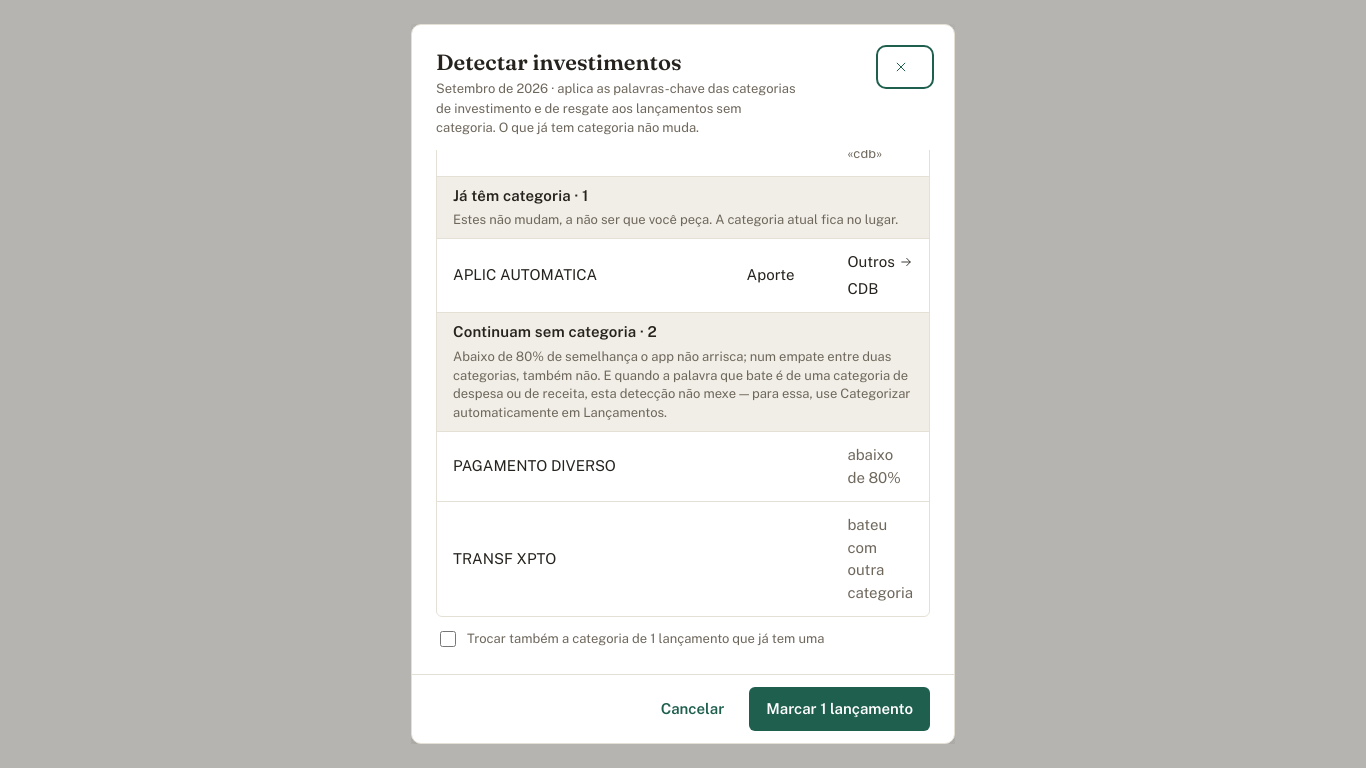
Test: DetectInvestmentsDialog › a troca exige um segundo sim, que diz em português que não há desfazer
(page scrolled)
Click the checkbox labelled "Trocar também a categoria de 1 lançamento que já tem uma": (448, 639) [440,631,456,647]
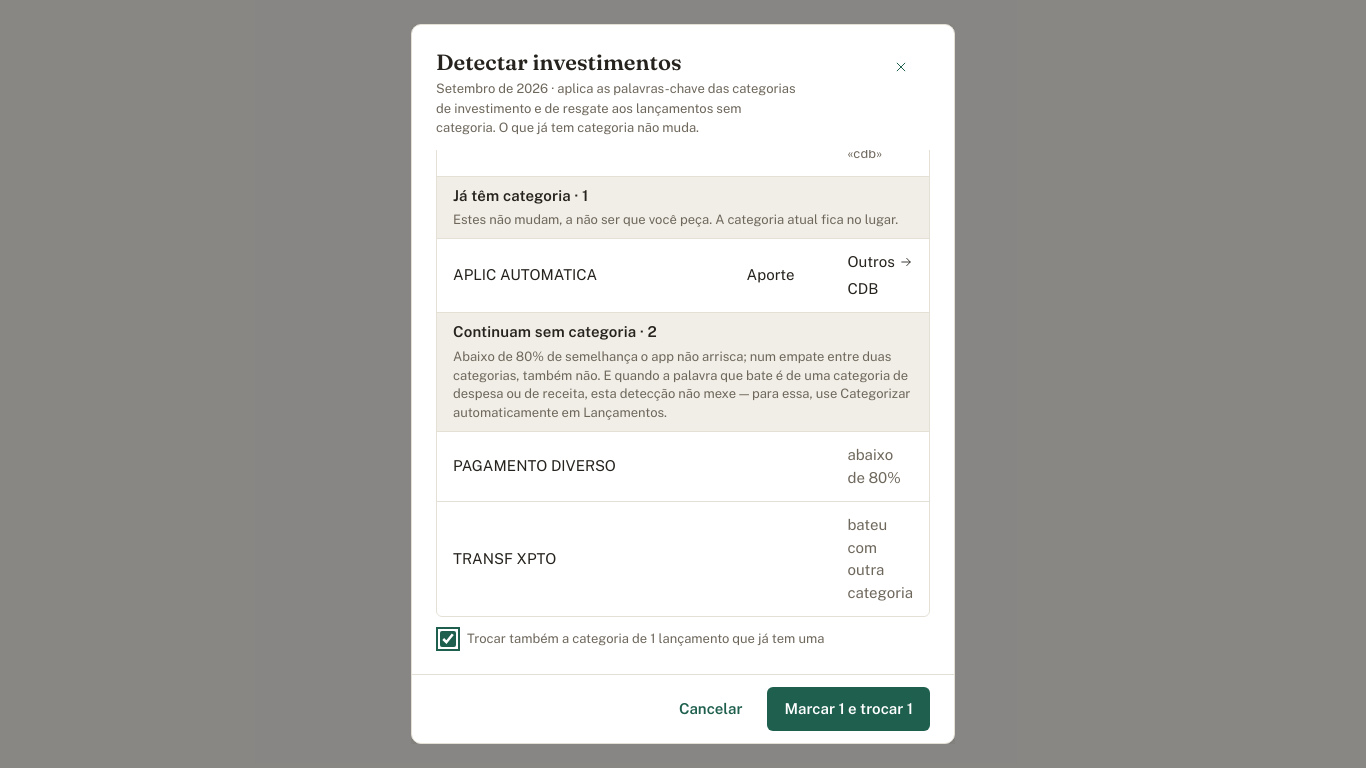
Click the button "Marcar 1 e trocar 1": (849, 709) [768,687,930,731]
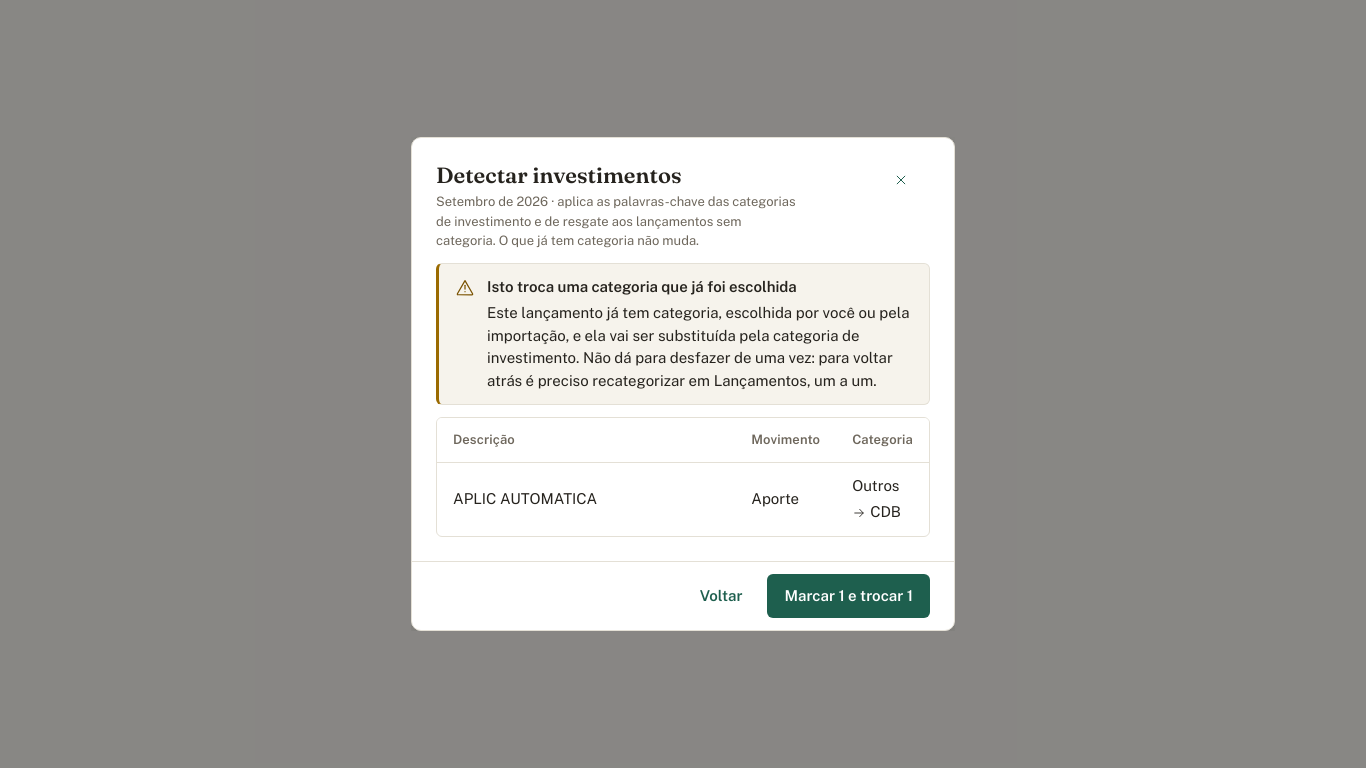
Now the text "Isto troca uma categoria que já foi escolhida" is shown, box [487,278,797,295]
Now the text "recategorizar em Lançamentos, um a um" is shown, box [487,304,910,389]
Now the button "Voltar" is shown, box [683,574,760,618]
